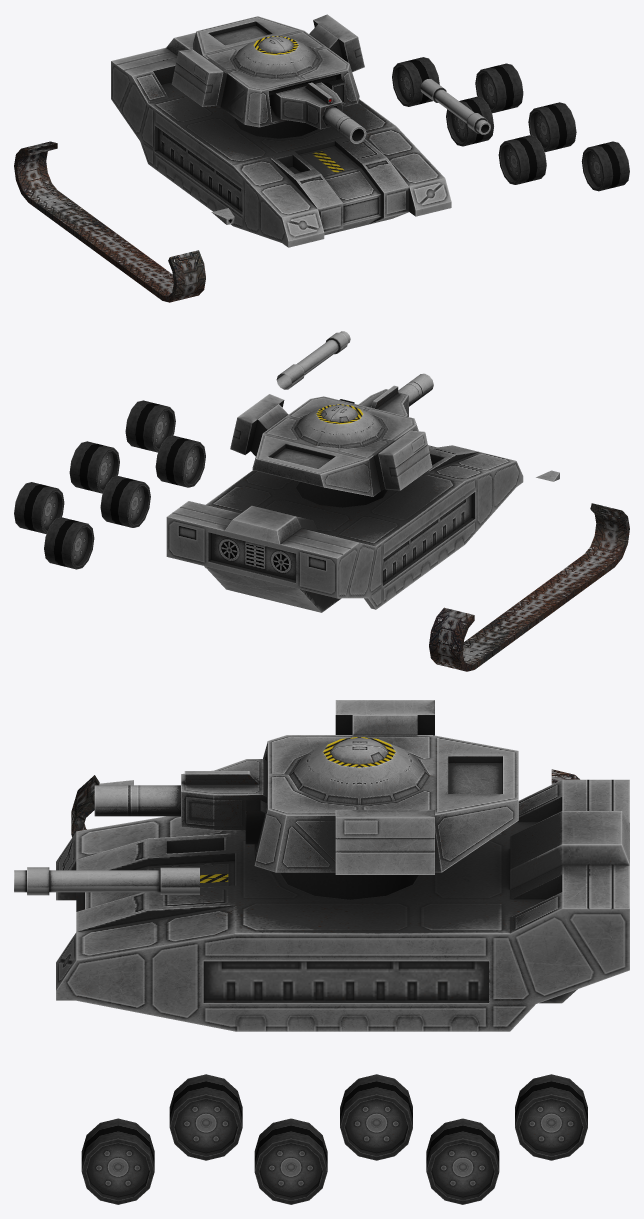
File: PattonRommel explo.FBX
The picture shows the model from 3 angles, top to bottom: view 1: azimuth 30°, elevation 25°; view 2: azimuth 150°, elevation 25°; view 3: azimuth 270°, elevation 25°; orthographic projection. The views are drawn at different scales.
Visible parts, largest first — view 1: body, turret, trackl, mantlet_1, barrel_1 (×2), wheel1, wheel2, wheel3, wheel5, wheel6, wheel4, fronthull; view 2: body, turret, trackl, wheel2, wheel4, wheel6, wheel3, wheel1, wheel5, barrel_1 (×2), mantlet_1; view 3: body, turret, barrel_1 (×2), wheel3, wheel2, wheel5, wheel1, wheel6, wheel4, mantlet_1, trackl, launcher_3.
Boxes of the visible parts, box(x1,y1,x2,y2) form: body: box(111, 32, 451, 247); turret: box(171, 14, 364, 127); trackl: box(14, 141, 205, 302); mantlet_1: box(270, 82, 342, 129); barrel_1 (×2): box(322, 79, 490, 143); wheel1: box(581, 141, 629, 191); wheel2: box(498, 135, 546, 184); wheel3: box(528, 102, 576, 152); wheel5: box(475, 63, 523, 113); wheel6: box(392, 57, 439, 106); wheel4: box(446, 96, 493, 146); fronthull: box(324, 168, 380, 203); body: box(166, 445, 523, 612); turret: box(230, 394, 432, 496); trackl: box(429, 503, 629, 671); wheel2: box(155, 435, 205, 487); wheel4: box(100, 476, 150, 527); wheel6: box(44, 517, 94, 569); wheel3: box(69, 441, 119, 493); wheel1: box(125, 400, 175, 452); wheel5: box(14, 482, 64, 533); barrel_1 (×2): box(276, 331, 433, 406); mantlet_1: box(358, 385, 408, 416); body: box(56, 779, 629, 1031); turret: box(254, 700, 518, 874); barrel_1 (×2): box(14, 785, 199, 895); wheel3: box(254, 1118, 327, 1204); wheel2: box(169, 1074, 242, 1160); wheel5: box(426, 1118, 499, 1204); wheel1: box(81, 1118, 154, 1204); wheel6: box(515, 1074, 587, 1160); wheel4: box(340, 1074, 412, 1160); mantlet_1: box(181, 759, 266, 830); trackl: box(71, 769, 579, 837); launcher_3: box(245, 800, 266, 844).
Bounding box in the file's own units: 66.63 × 22.31 × 48.13.
1 material, 1 textured.
